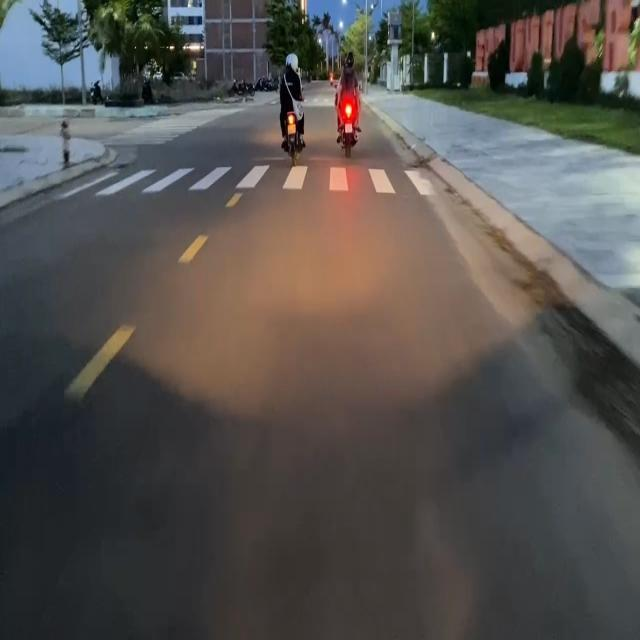walk-crossing: (58, 163, 444, 198)
